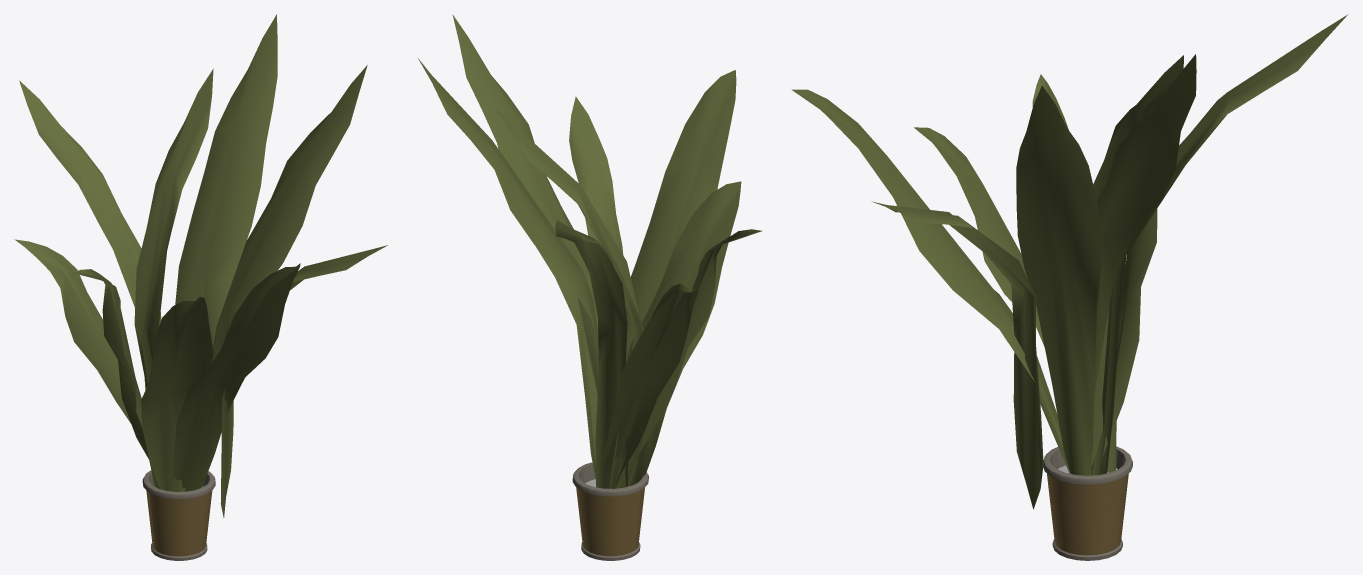
File: plant_1_0926 1.fbx
The picture shows the model from 3 angles, left to right: view 1: azimuth 30°, elevation 25°; view 2: azimuth 150°, elevation 25°; view 3: azimuth 270°, elevation 25°; orthographic projection. The views are drawn at different scales.
Parts seen in each view (by area): view 1: pDisc3, pDisc1, pDisc7, pDisc5, pDisc8, pDisc4, pasted__pCylinder1, pDisc6, pDisc2, pasted__pDisc4; view 2: pDisc1, pDisc7, pDisc6, pDisc4, pDisc3, pDisc5, pasted__pCylinder1, pDisc8, pasted__pDisc4, pDisc2; view 3: pDisc7, pDisc3, pDisc1, pasted__pDisc4, pasted__pCylinder1, pDisc4, pDisc6, pDisc5, pDisc8.
Boxes of the visible parts, left/top/right/bottom form: pDisc3: left=175, top=14, right=277, bottom=347; pDisc1: left=173, top=263, right=300, bottom=491; pDisc7: left=198, top=65, right=367, bottom=488; pDisc5: left=141, top=296, right=213, bottom=491; pDisc8: left=134, top=68, right=213, bottom=387; pDisc4: left=19, top=80, right=161, bottom=486; pasted__pCylinder1: left=142, top=470, right=215, bottom=560; pDisc6: left=14, top=239, right=130, bottom=423; pDisc2: left=72, top=269, right=159, bottom=488; pasted__pDisc4: left=220, top=245, right=387, bottom=517; pDisc1: left=626, top=70, right=736, bottom=485; pDisc7: left=452, top=14, right=598, bottom=478; pDisc6: left=600, top=283, right=698, bottom=488; pDisc4: left=555, top=220, right=628, bottom=488; pDisc3: left=417, top=57, right=598, bottom=395; pDisc5: left=625, top=181, right=741, bottom=486; pasted__pCylinder1: left=572, top=462, right=648, bottom=560; pDisc8: left=493, top=106, right=643, bottom=488; pasted__pDisc4: left=569, top=96, right=625, bottom=308; pDisc2: left=615, top=229, right=761, bottom=488; pDisc7: left=1016, top=85, right=1101, bottom=475; pDisc3: left=1094, top=54, right=1196, bottom=395; pDisc1: left=791, top=89, right=1070, bottom=473; pasted__pDisc4: left=871, top=201, right=1043, bottom=509; pasted__pCylinder1: left=1043, top=446, right=1132, bottom=560; pDisc4: left=1102, top=14, right=1348, bottom=473; pDisc6: left=1091, top=209, right=1157, bottom=475; pDisc5: left=914, top=127, right=1044, bottom=346; pDisc8: left=1089, top=55, right=1183, bottom=475.
Size of the model in its own units: 10.08 by 15.31 by 13.3.
